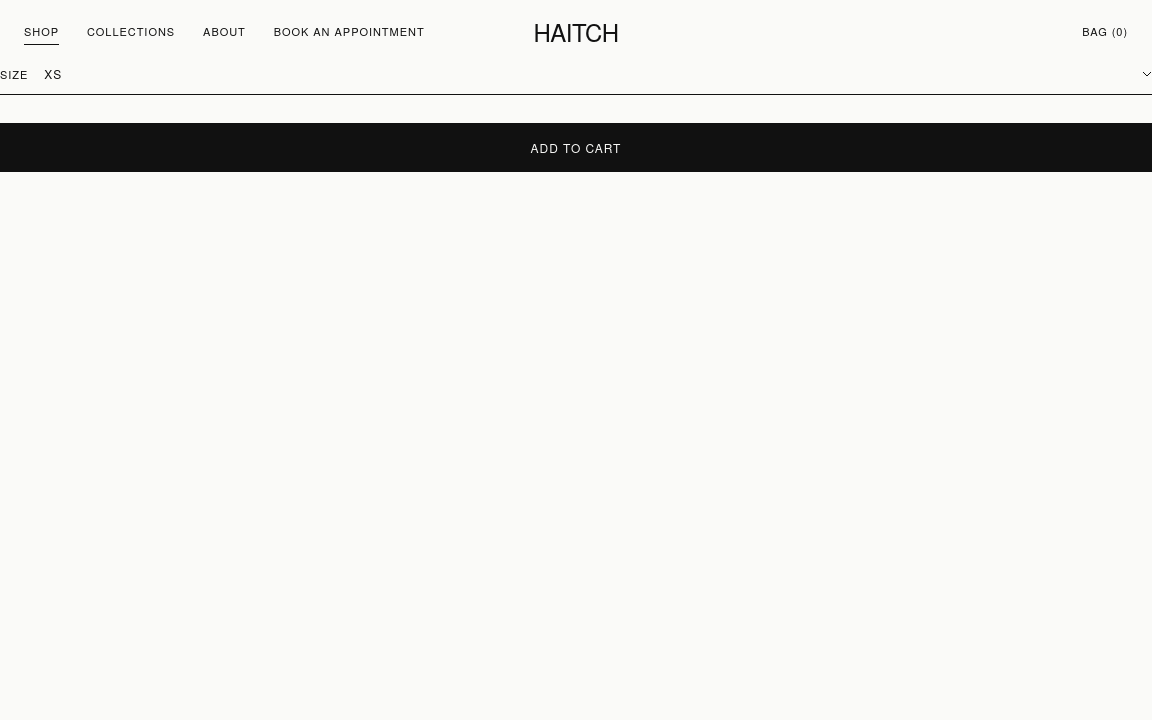
Test case: bag › starts empty and adding an item opens the drawer with name, size and price
Expected: the button "BAG (0)" is shown, top-left (1082, 19), bottom-right (1128, 45)
Step 1. Select "M" in the dropdown labelled "SIZE" → (598, 74), box top-left (44, 64), bottom-right (1151, 83)
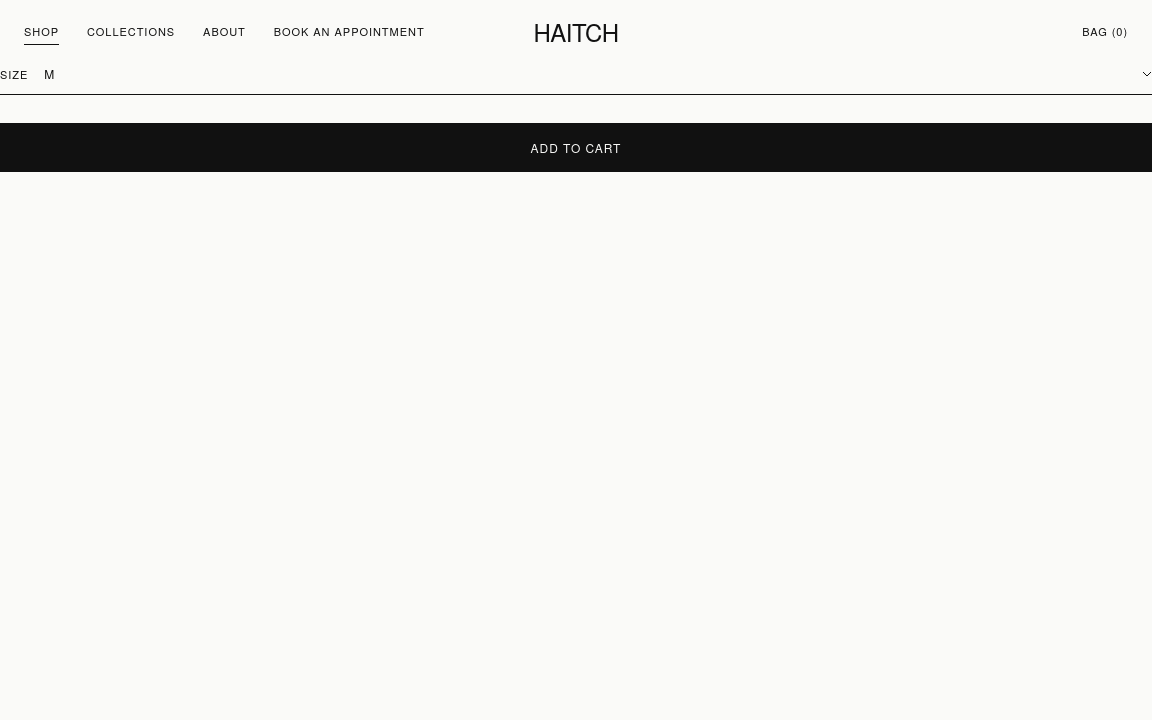
Step 2. Click the button "ADD TO CART" → (576, 147), box top-left (0, 123), bottom-right (1151, 172)
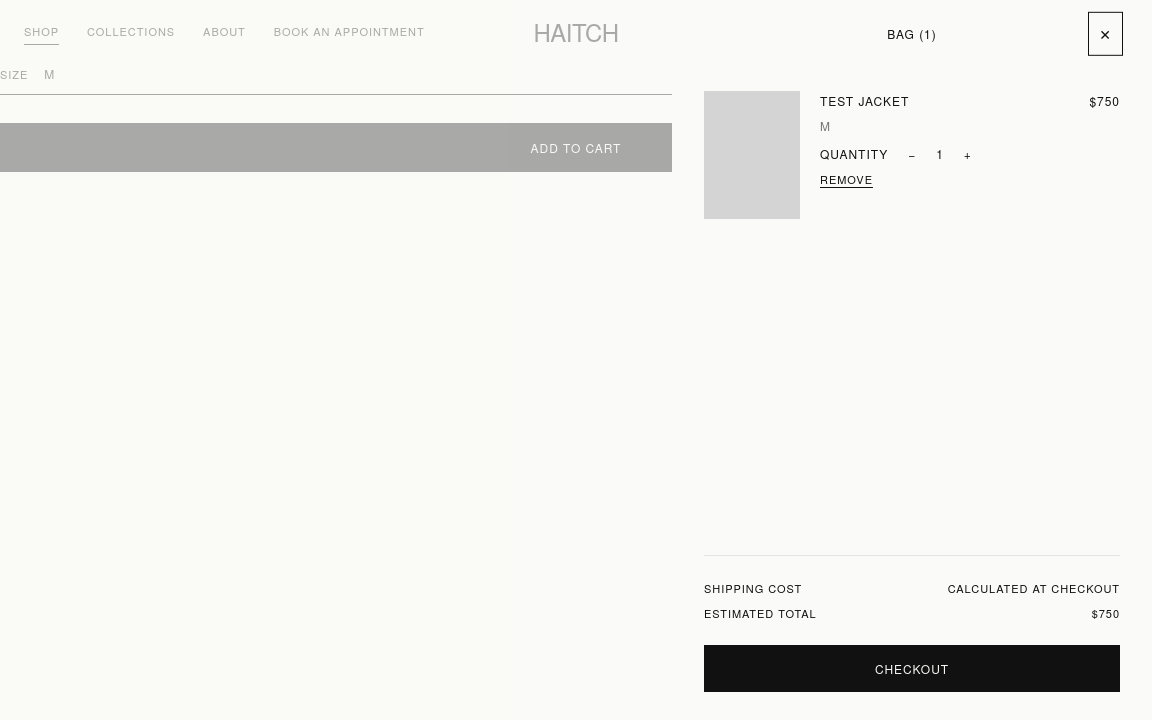
Now the text "TEST JACKET" is shown, box top-left (820, 91), bottom-right (909, 110)
Now the text "M" is shown, box top-left (820, 117), bottom-right (831, 134)
Now the text "$750" in the row of "TEST JACKET" is shown, box top-left (1090, 92), bottom-right (1120, 109)
